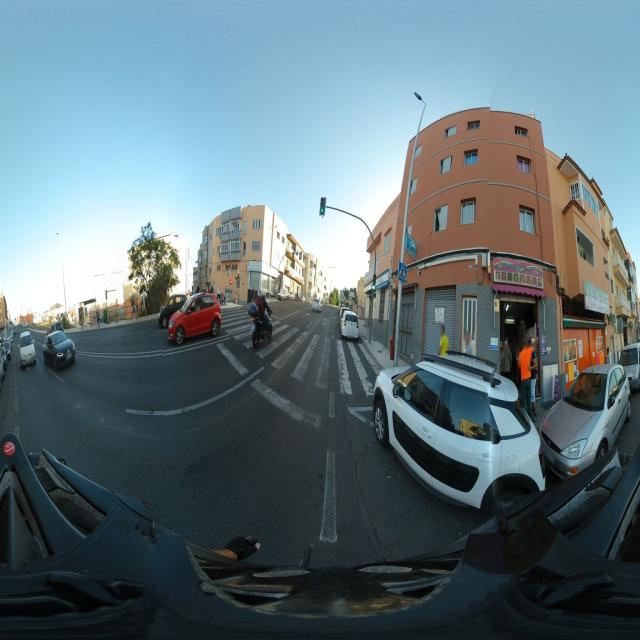bike: (250, 299, 273, 346)
car: (373, 350, 546, 536), (539, 362, 632, 481), (166, 294, 222, 346), (45, 330, 76, 370), (619, 342, 640, 394), (19, 333, 37, 369), (340, 312, 360, 342), (0, 334, 12, 363), (0, 333, 6, 378), (311, 296, 322, 312)
